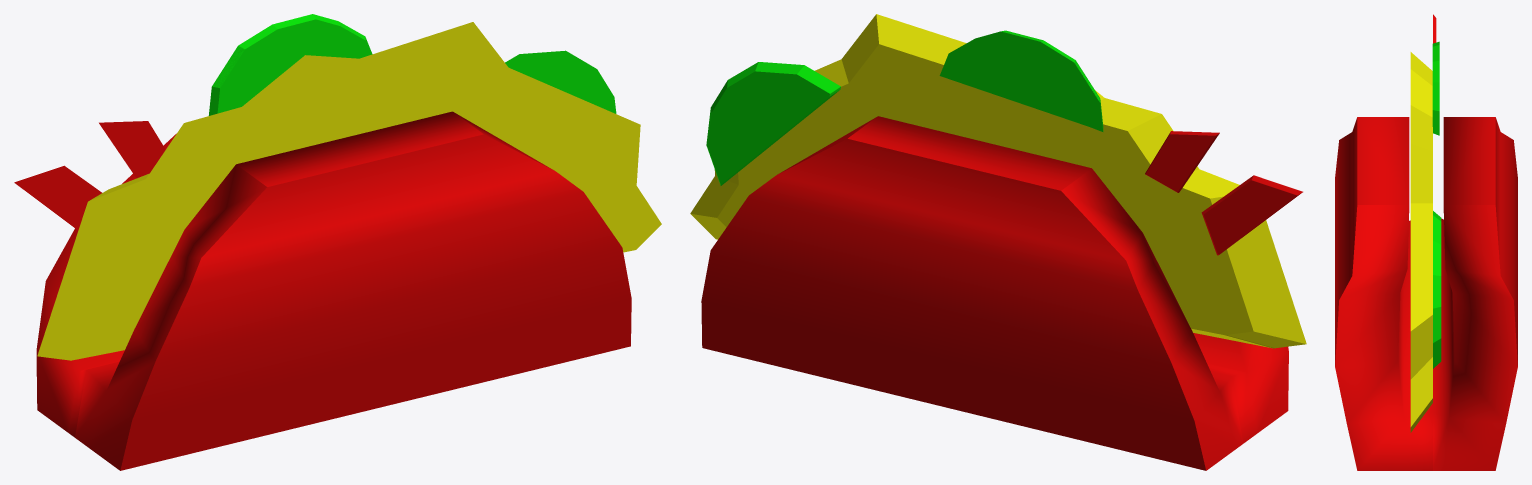
File: TACO01.fbx
3 renders of one model, left to right at view 1: azimuth 30°, elevation 25°; view 2: azimuth 150°, elevation 25°; view 3: azimuth 270°, elevation 25°, orthographic. The views are drawn at different scales.
Visible parts, largest first — view 1: polySurface22, polySurface23, polySurface21, polySurface25, polySurface24, polySurface26; view 2: polySurface22, polySurface23, polySurface25, polySurface21, polySurface24, polySurface26; view 3: polySurface22, polySurface23, polySurface25, polySurface21.
Part boxes in pixels (bbox=[...]): polySurface22: bbox=[36, 111, 631, 470]; polySurface23: bbox=[37, 22, 661, 360]; polySurface21: bbox=[208, 14, 372, 115]; polySurface25: bbox=[505, 50, 616, 113]; polySurface24: bbox=[14, 165, 101, 230]; polySurface26: bbox=[99, 121, 165, 178]; polySurface22: bbox=[701, 116, 1288, 470]; polySurface23: bbox=[690, 14, 1306, 348]; polySurface25: bbox=[706, 62, 840, 185]; polySurface21: bbox=[939, 30, 1103, 131]; polySurface24: bbox=[1201, 175, 1302, 255]; polySurface26: bbox=[1145, 131, 1219, 192]; polySurface22: bbox=[1335, 117, 1517, 470]; polySurface23: bbox=[1410, 52, 1432, 432]; polySurface25: bbox=[1433, 211, 1441, 368]; polySurface21: bbox=[1432, 41, 1439, 135].
Bounding box in the file's own units: 0.6959 × 0.379 × 0.2086.
